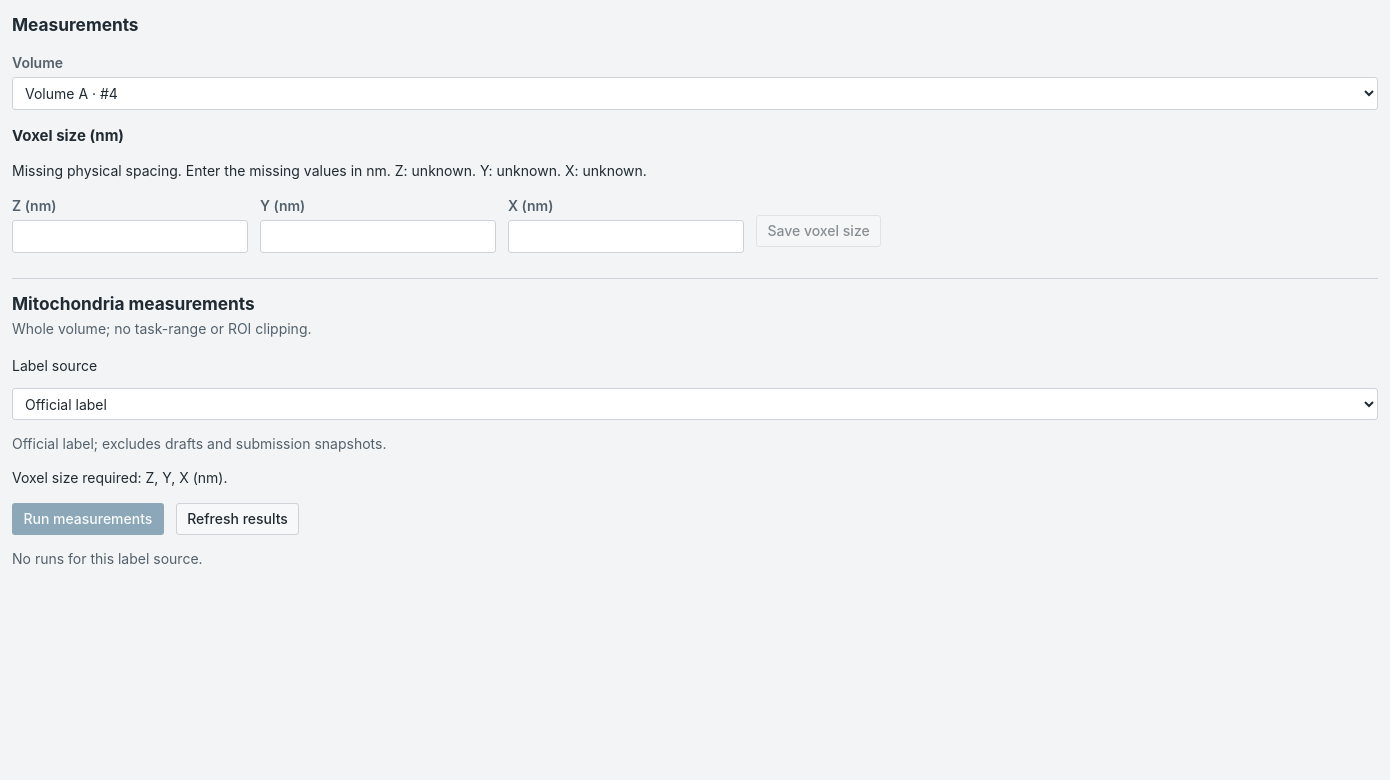
Test: requires actual spacing and explicit metadata save before a run
Expected: the text "No runs for this label source." is shown, x1=12 y1=550 x2=203 y2=567
Expected: the dropdown labelled "Volume" shows "Volume A · #4", x1=12 y1=77 x2=1378 y2=110
In the number field labelled "Z (nm)": coordinates (130, 237) x1=12 y1=220 x2=248 y2=253, type "30"
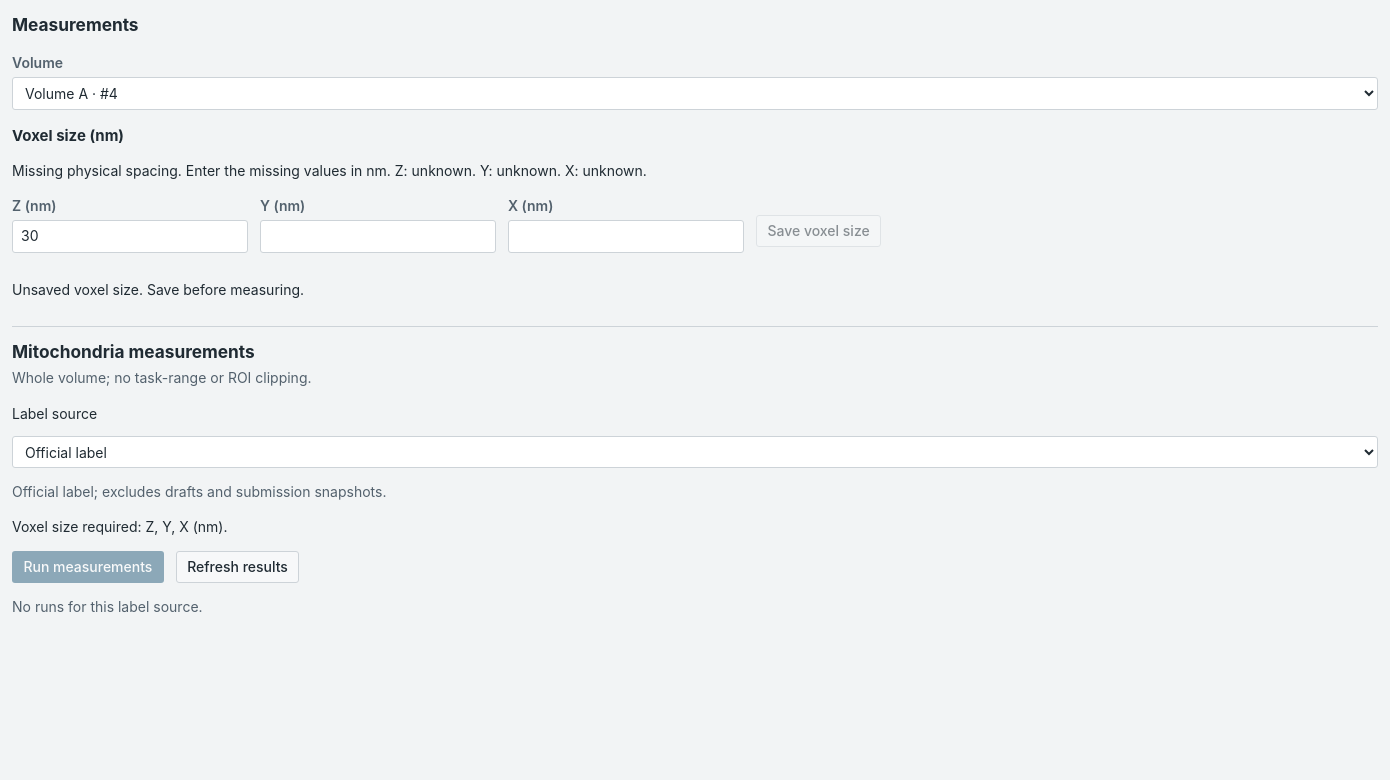
In the number field labelled "Y (nm)": coordinates (378, 237) x1=260 y1=220 x2=496 y2=253, type "16"
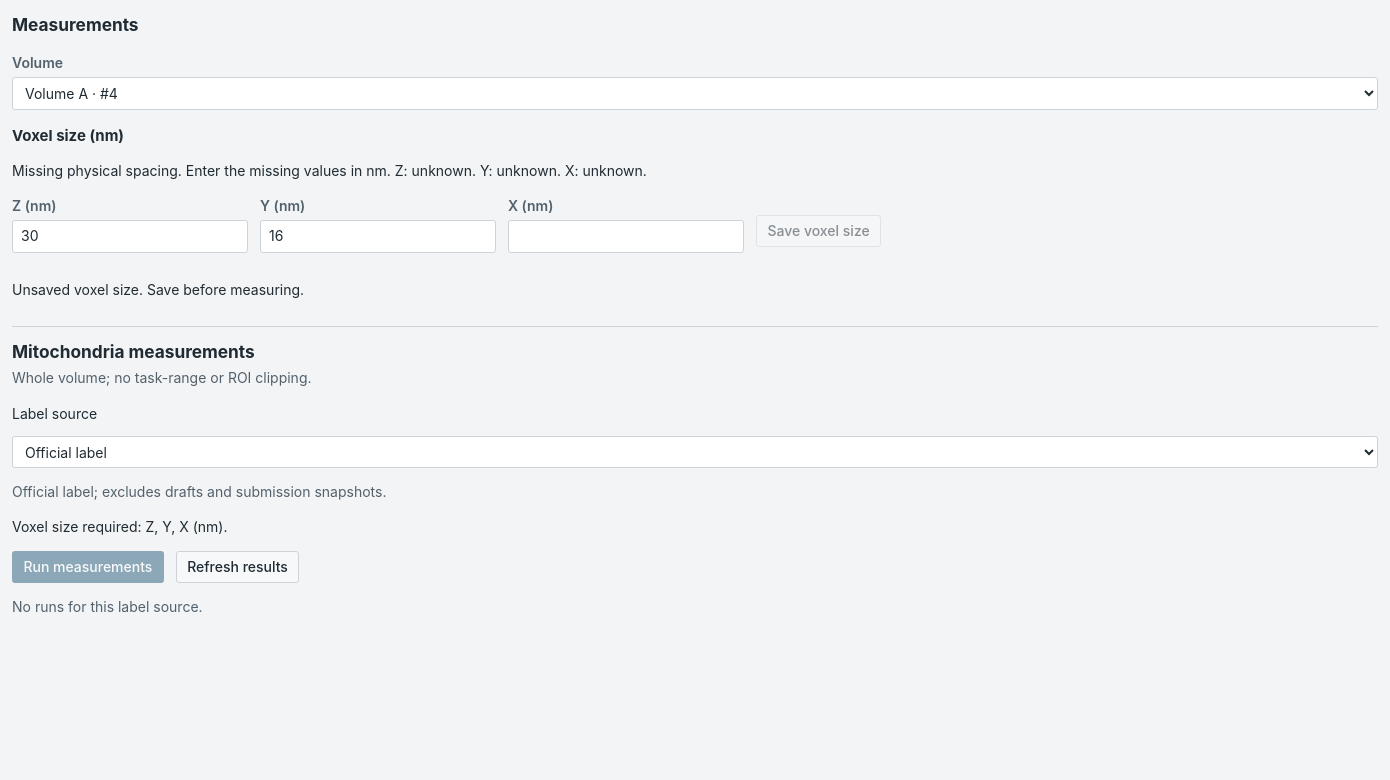
In the number field labelled "X (nm)": coordinates (626, 237) x1=508 y1=220 x2=744 y2=253, type "16"
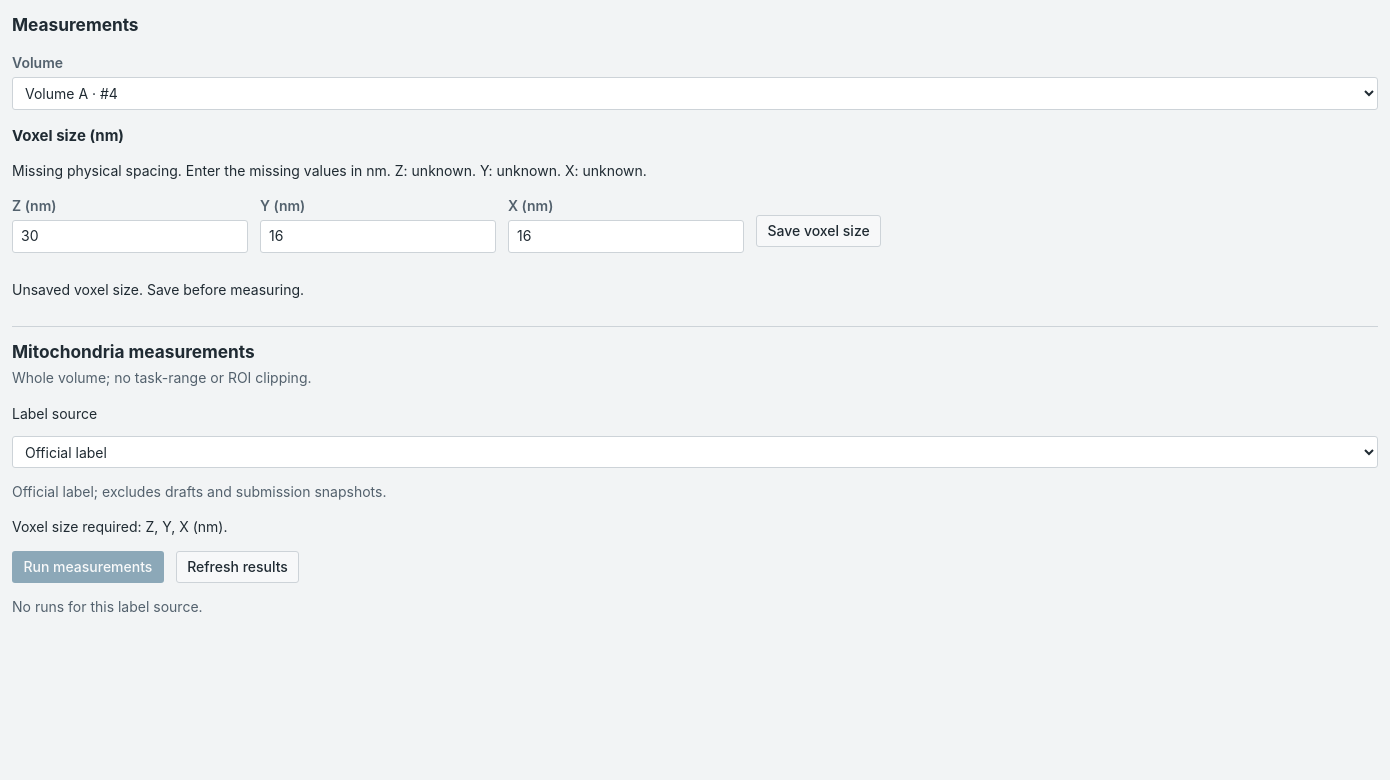
Expected: the button "Run measurements" is disabled, x1=12 y1=551 x2=164 y2=583
Click the button "Save voxel size": coordinates (819, 231) x1=756 y1=215 x2=881 y2=247
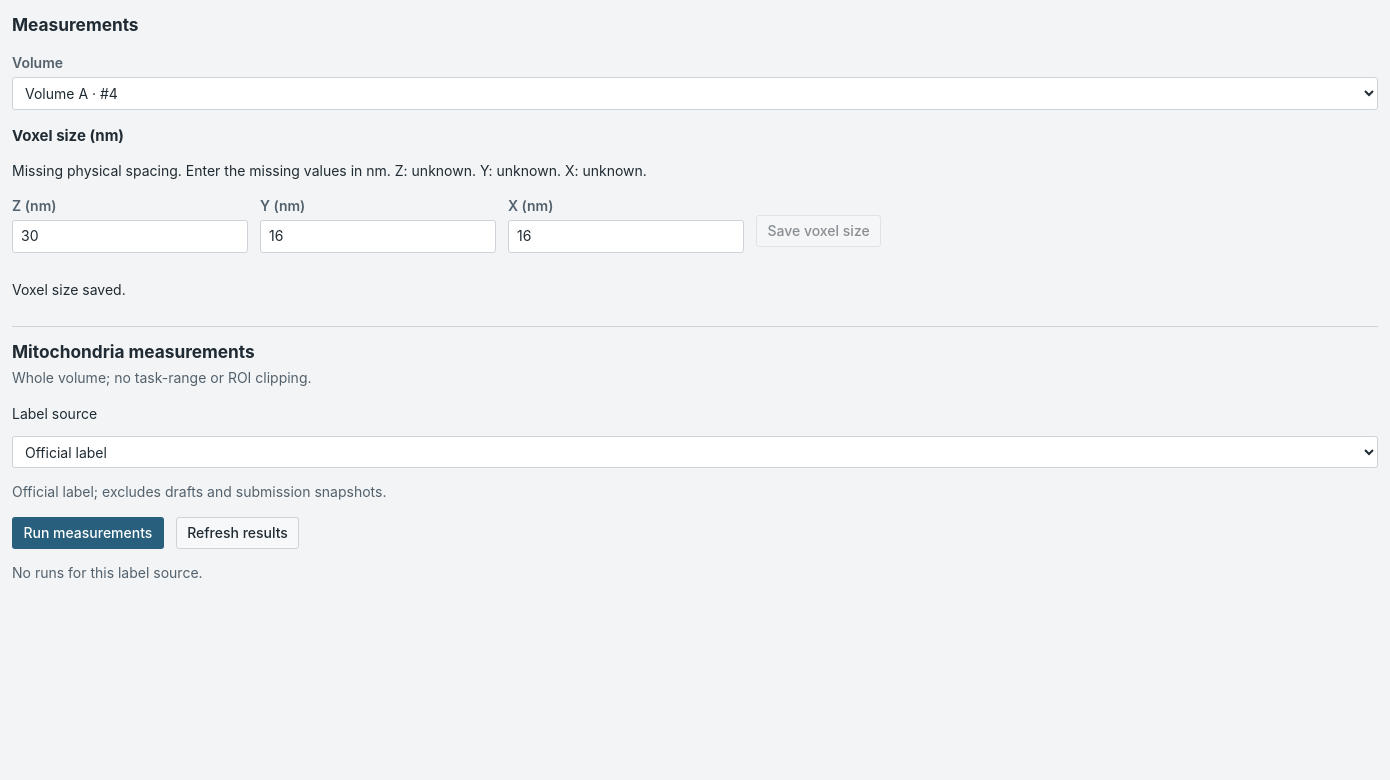
Expected: the button "Run measurements" is enabled, x1=12 y1=517 x2=164 y2=549
